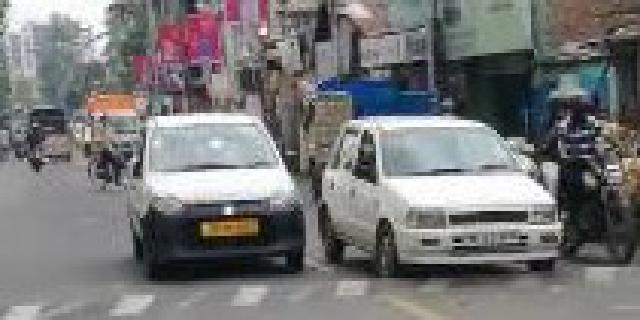Car: (327, 103, 569, 287), (136, 104, 316, 277)
